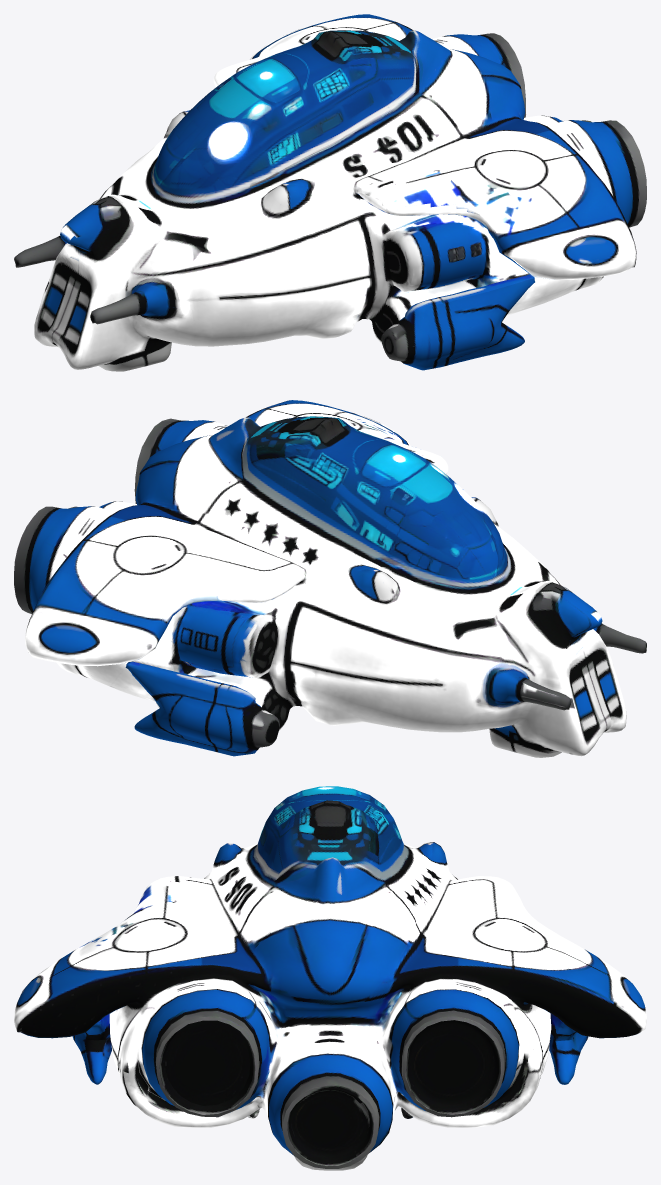
File: Meshy_AI_S_01_Starfighter_0522180707_texture.glb
3 renders of one model, top to bottom at view 1: azimuth 30°, elevation 25°; view 2: azimuth 150°, elevation 25°; view 3: azimuth 270°, elevation 25°, orthographic.
Parts seen in each view (by area): view 1: Mesh_0; view 2: Mesh_0; view 3: Mesh_0.
Part boxes in pixels (<box>): Mesh_0: <box>14,14,646,371</box>; Mesh_0: <box>14,400,646,757</box>; Mesh_0: <box>14,786,646,1170</box>.
Size of the model in its own units: 1.91 by 0.931 by 1.9.
1 material, 1 textured.
